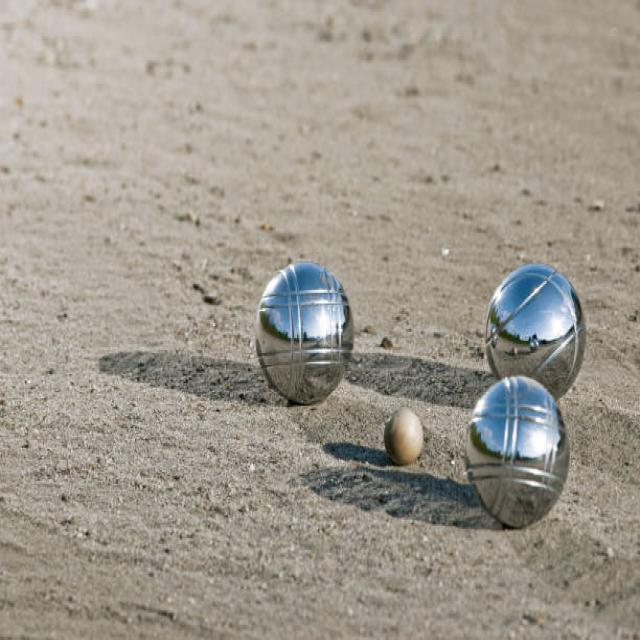hatball: (379, 405, 431, 474)
petanque: (457, 368, 571, 535), (250, 255, 357, 412), (482, 263, 592, 408)
